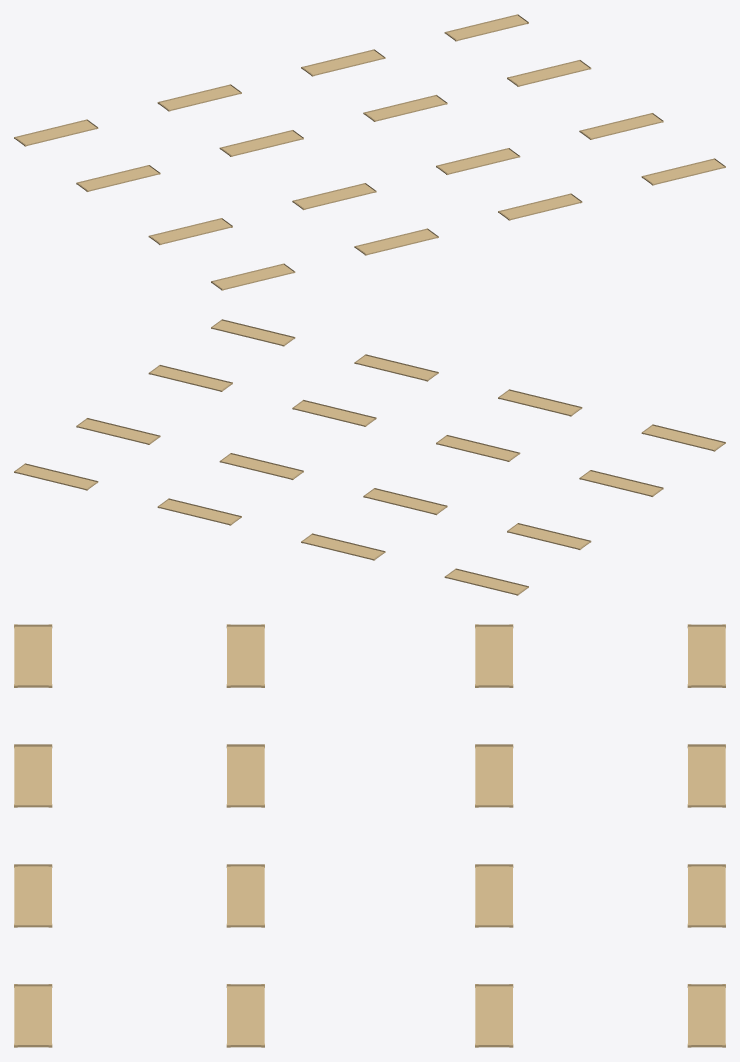
Rendered from lampArray.FBX.
3 views of the same model, one above another, from view 1: azimuth 30°, elevation 25°; view 2: azimuth 150°, elevation 25°; view 3: azimuth 270°, elevation 25° (orthographic). The views are drawn at different scales.
Parts seen in each view (by area): view 1: LampNew009, LampNew003, LampNew007, LampNew011, LampNew013, LampNew001, LampNew010, LampNew015, LampNew004, LampNew005, LampNew002, LampNew (+4 smaller); view 2: LampNew011, LampNew001, LampNew005, LampNew009, LampNew015, LampNew003, LampNew008, LampNew013, LampNew006, LampNew007, LampNew, LampNew002 (+4 smaller); view 3: LampNew, LampNew001, LampNew002, LampNew003, LampNew004, LampNew005, LampNew006, LampNew007, LampNew008, LampNew009, LampNew010, LampNew011 (+4 smaller).
Boxes of the visible parts, bbox=[...] form: LampNew009: bbox=[157, 84, 241, 111]; LampNew003: bbox=[641, 158, 725, 185]; LampNew007: bbox=[498, 193, 582, 220]; LampNew011: bbox=[354, 228, 438, 255]; LampNew013: bbox=[14, 119, 98, 146]; LampNew001: bbox=[444, 14, 528, 41]; LampNew010: bbox=[292, 183, 376, 210]; LampNew015: bbox=[211, 263, 295, 290]; LampNew004: bbox=[363, 94, 447, 121]; LampNew005: bbox=[301, 49, 385, 76]; LampNew002: bbox=[579, 113, 663, 139]; LampNew: bbox=[507, 60, 591, 86]; LampNew011: bbox=[498, 389, 582, 416]; LampNew001: bbox=[14, 463, 98, 490]; LampNew005: bbox=[157, 498, 241, 525]; LampNew009: bbox=[301, 533, 385, 560]; LampNew015: bbox=[641, 424, 725, 451]; LampNew003: bbox=[211, 319, 295, 346]; LampNew008: bbox=[363, 488, 447, 515]; LampNew013: bbox=[444, 568, 528, 595]; LampNew006: bbox=[292, 399, 376, 426]; LampNew007: bbox=[354, 354, 438, 381]; LampNew: bbox=[76, 418, 160, 444]; LampNew002: bbox=[148, 365, 232, 391]; LampNew: bbox=[475, 984, 513, 1047]; LampNew001: bbox=[687, 984, 725, 1047]; LampNew002: bbox=[226, 984, 264, 1047]; LampNew003: bbox=[14, 984, 52, 1047]; LampNew004: bbox=[475, 864, 513, 927]; LampNew005: bbox=[687, 864, 725, 927]; LampNew006: bbox=[226, 864, 264, 927]; LampNew007: bbox=[14, 864, 52, 927]; LampNew008: bbox=[475, 744, 513, 807]; LampNew009: bbox=[687, 744, 725, 807]; LampNew010: bbox=[226, 744, 264, 807]; LampNew011: bbox=[14, 744, 52, 807].
Bounding box in the file's own units: 332 × 0.8661 × 237.
